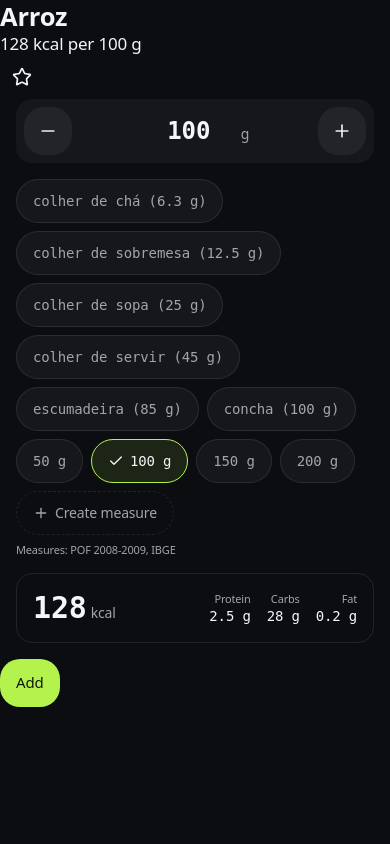
PortionSheet household measures › goes back to grams with a gram shortcut or a typed amount
This screenshot has width=390, height=844.
Click the button "concha (100 g)" at (282, 409), box [207,387,356,431]
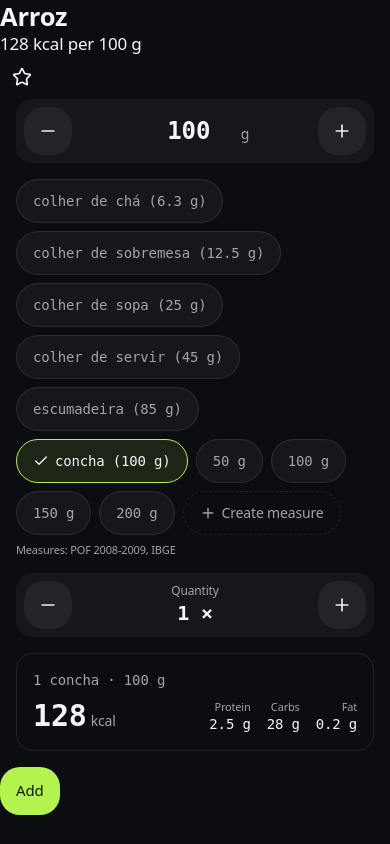
Click the button named "Half a measure more" at (342, 605), box [318,581,366,629]
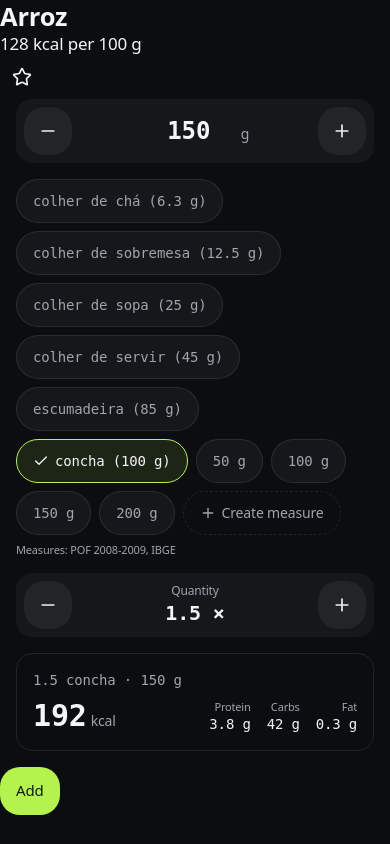
Click the button "200 g" at (137, 513), box [99,491,175,535]
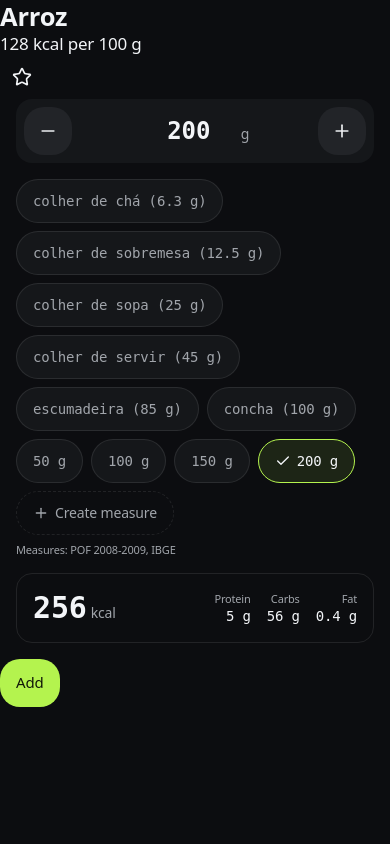
Now the text with test id "portion-measure" is gone
Click the button "concha (100 g)" at (282, 409), box [207,387,356,431]
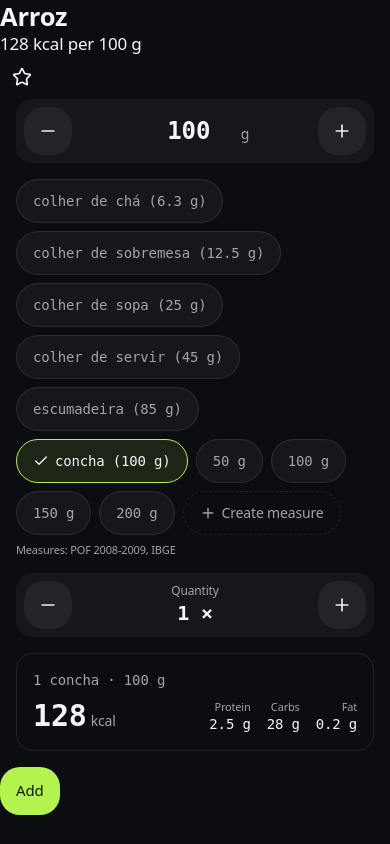
Replace the text in the field named "Grams" with "130" at (189, 131), box [141,107,237,155]
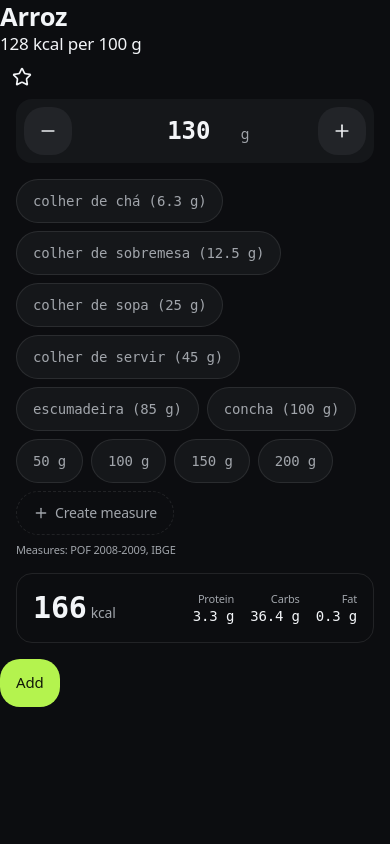
Now the text with test id "portion-measure" is gone
Now the text with test id "portion-kcal" reads "166", box [33,590,87,625]
